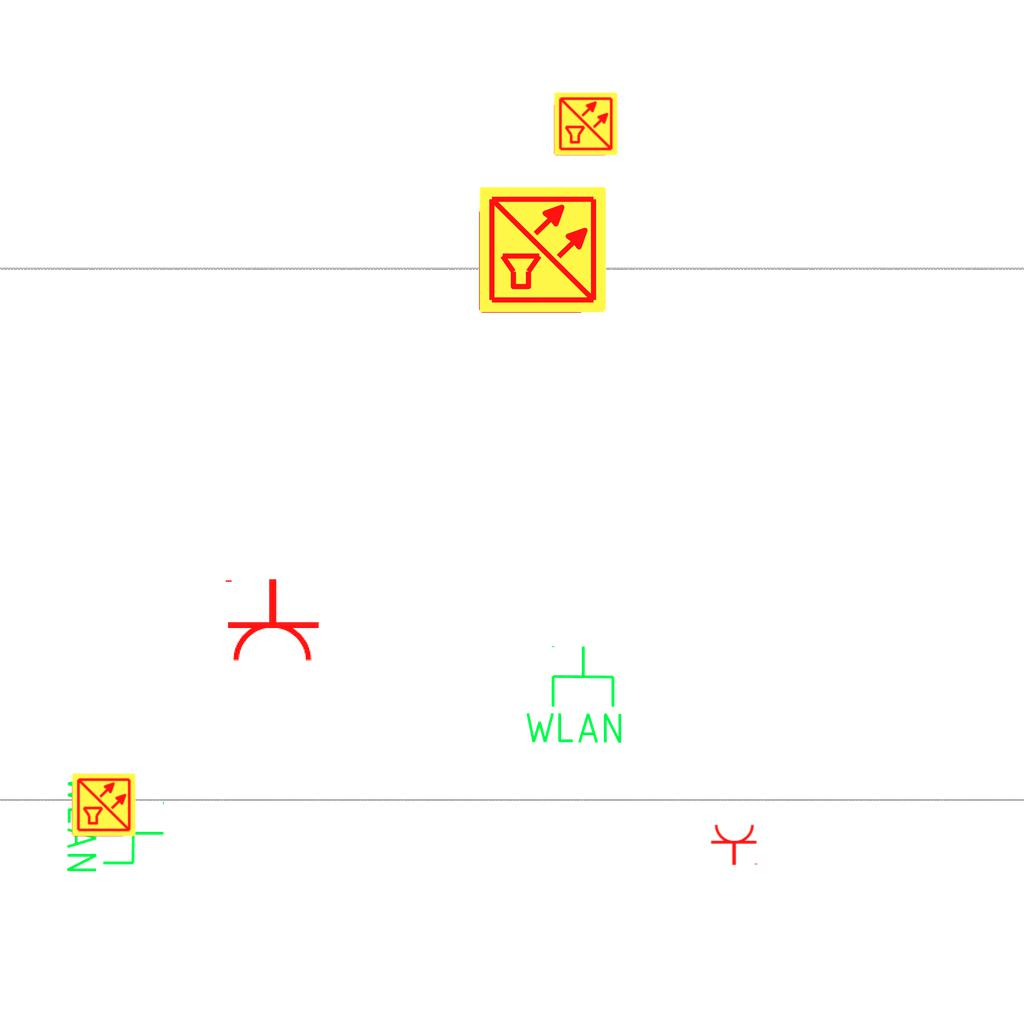OKW_Multisensormelder_(Kombination_optischer_Rauch-Kahlenmonoxid_Waerme-Melder): (477, 184, 609, 316), (553, 91, 619, 157), (71, 772, 137, 838)
Schukosteckdose_einfach: (221, 577, 321, 664), (710, 823, 760, 866)
WLAN: (63, 771, 167, 876), (521, 643, 626, 747)
